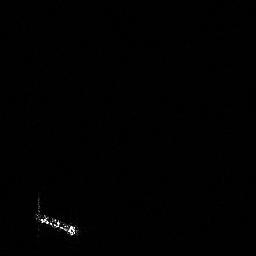ship: (30, 190, 82, 240)
